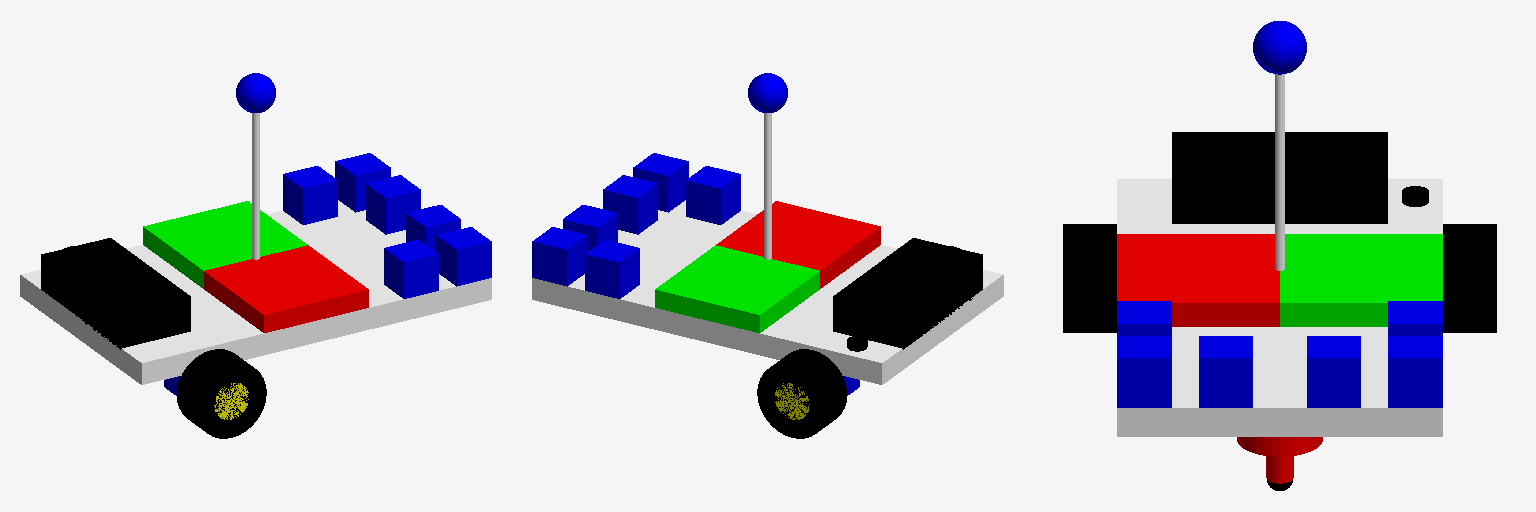
robot.urdf — tuktuk:
<?xml version="1.0" ?>
<!-- =================================================================================== -->
<!-- |    This document was autogenerated by xacro from tuktuk.xacro                   | -->
<!-- |    EDITING THIS FILE BY HAND IS NOT RECOMMENDED                                 | -->
<!-- =================================================================================== -->
<robot name="tuktuk">
  <material name="blue">
    <color rgba="0 0 1 1"/>
  </material>
  <material name="white">
    <color rgba="1 1 1 1"/>
  </material>
  <material name="black">
    <color rgba="0 0 0 1"/>
  </material>
  <material name="black_2">
    <color rgba="0 0 0 0.95"/>
  </material>
  <material name="green">
    <color rgba="0 1 0 1"/>
  </material>
  <material name="red">
    <color rgba="1 0 0 1"/>
  </material>
  <material name="yellow">
    <color rgba="1 1 0 1"/>
  </material>
  <gazebo>
    <plugin filename="gz-sim-diff-drive-system" name="gz::sim::systems::DiffDrive">
      <left_joint>iwheell_joint</left_joint>
      <right_joint>iwheelr_joint</right_joint>
      <wheel_separation>0.7</wheel_separation>
      <wheel_radius>0.04</wheel_radius>
      <topic>/thief/cmd_vel</topic>
    </plugin>
  </gazebo>
  <gazebo reference="thief_camera">
    <sensor name="camera" type="camera">
      <pose>0 0 0 0 0 0</pose>
      <always_on>true</always_on>
      <update_rate>30.0</update_rate>
      <visualize>true</visualize>
      <topic>/thief/camera/image</topic>
      <camera>
        <horizontal_fov>1.089</horizontal_fov>
        <image>
          <width>640</width>
          <height>480</height>
          <format>R8G8B8</format>
        </image>
        <clip>
          <near>0.05</near>
          <far>8.0</far>
        </clip>
      </camera>
    </sensor>
  </gazebo>
  <link name="chassis">
    <inertial>
      <mass value="0.8"/>
      <origin rpy="0 0 0" xyz="0 0 0"/>
      <inertia ixx="0.024239999999999998" ixy="0" ixz="0" iyy="0.06690666666666667" iyz="0" izz="0.09066666666666666"/>
    </inertial>
    <visual>
      <geometry>
        <box size="1.0 0.6 0.06"/>
      </geometry>
      <material name="white"/>
    </visual>
    <collision>
      <geometry>
        <box size="1.0 0.6 0.06"/>
      </geometry>
    </collision>
  </link>
  <link name="stand">
    <inertial>
      <mass value="0.001"/>
      <origin rpy="0 0 0" xyz="0 0 0"/>
      <inertia ixx="0.001" ixy="0" ixz="0" iyy="0.001" iyz="0" izz="0.001"/>
    </inertial>
    <visual>
      <geometry>
        <cylinder length="0.5" radius="0.01"/>
      </geometry>
      <material name="white"/>
    </visual>
    <collision>
      <geometry>
        <cylinder length="0.5" radius="0.01"/>
      </geometry>
    </collision>
  </link>
  <joint name="stand_joint" type="fixed">
    <parent link="chassis"/>
    <child link="stand"/>
    <origin rpy="0 0 0" xyz="0 0 0.28"/>
  </joint>
  <link name="thief_camera">
    <inertial>
      <mass value="0.001"/>
      <origin rpy="0 0 0" xyz="0 0 0"/>
      <inertia ixx="0.001" ixy="0" ixz="0" iyy="0.001" iyz="0" izz="0.001"/>
    </inertial>
    <visual>
      <geometry>
        <sphere radius="0.05"/>
      </geometry>
      <material name="blue"/>
    </visual>
    <collision>
      <geometry>
        <sphere radius="0.06"/>
      </geometry>
    </collision>
  </link>
  <joint name="cam_joint" type="fixed">
    <parent link="stand"/>
    <child link="thief_camera"/>
    <origin rpy="0 0 0" xyz="0 0 0.25"/>
  </joint>
  <link name="ir1">
    <inertial>
      <mass value="0.01"/>
      <origin rpy="0 0 0" xyz="0 0 0"/>
      <inertia ixx="1.666666666666667e-05" ixy="0" ixz="0" iyy="1.666666666666667e-05" iyz="0" izz="1.666666666666667e-05"/>
    </inertial>
    <visual>
      <geometry>
        <box size="0.1 0.1 0.1"/>
      </geometry>
      <material name="blue"/>
    </visual>
    <collision>
      <geometry>
        <box size="0.1 0.1 0.1"/>
      </geometry>
    </collision>
  </link>
  <joint name="ir1_joint" type="fixed">
    <parent link="chassis"/>
    <child link="ir1"/>
    <origin rpy="0 0 0" xyz="0.45 0.25 0.08"/>
  </joint>
  <link name="ir2">
    <inertial>
      <mass value="0.01"/>
      <origin rpy="0 0 0" xyz="0 0 0"/>
      <inertia ixx="1.666666666666667e-05" ixy="0" ixz="0" iyy="1.666666666666667e-05" iyz="0" izz="1.666666666666667e-05"/>
    </inertial>
    <visual>
      <geometry>
        <box size="0.1 0.1 0.1"/>
      </geometry>
      <material name="blue"/>
    </visual>
    <collision>
      <geometry>
        <box size="0.1 0.1 0.1"/>
      </geometry>
    </collision>
  </link>
  <joint name="ir2_joint" type="fixed">
    <parent link="chassis"/>
    <child link="ir2"/>
    <origin rpy="0 0 0" xyz="0.45 0.1 0.08"/>
  </joint>
  <link name="ir3">
    <inertial>
      <mass value="0.01"/>
      <origin rpy="0 0 0" xyz="0 0 0"/>
      <inertia ixx="1.666666666666667e-05" ixy="0" ixz="0" iyy="1.666666666666667e-05" iyz="0" izz="1.666666666666667e-05"/>
    </inertial>
    <visual>
      <geometry>
        <box size="0.1 0.1 0.1"/>
      </geometry>
      <material name="blue"/>
    </visual>
    <collision>
      <geometry>
        <box size="0.1 0.1 0.1"/>
      </geometry>
    </collision>
  </link>
  <joint name="ir3_joint" type="fixed">
    <parent link="chassis"/>
    <child link="ir3"/>
    <origin rpy="0 0 0" xyz="0.45 -0.1 0.08"/>
  </joint>
  <link name="ir4">
    <inertial>
      <mass value="0.01"/>
      <origin rpy="0 0 0" xyz="0 0 0"/>
      <inertia ixx="1.666666666666667e-05" ixy="0" ixz="0" iyy="1.666666666666667e-05" iyz="0" izz="1.666666666666667e-05"/>
    </inertial>
    <visual>
      <geometry>
        <box size="0.1 0.1 0.1"/>
      </geometry>
      <material name="blue"/>
    </visual>
    <collision>
      <geometry>
        <box size="0.1 0.1 0.1"/>
      </geometry>
    </collision>
  </link>
  <joint name="ir4_joint" type="fixed">
    <parent link="chassis"/>
    <child link="ir4"/>
    <origin rpy="0 0 0" xyz="0.45 -0.25 0.08"/>
  </joint>
  <link name="irl">
    <inertial>
      <mass value="0.01"/>
      <origin rpy="0 0 0" xyz="0 0 0"/>
      <inertia ixx="1.666666666666667e-05" ixy="0" ixz="0" iyy="1.666666666666667e-05" iyz="0" izz="1.666666666666667e-05"/>
    </inertial>
    <visual>
      <geometry>
        <box size="0.1 0.1 0.1"/>
      </geometry>
      <material name="blue"/>
    </visual>
    <collision>
      <geometry>
        <box size="0.1 0.1 0.1"/>
      </geometry>
    </collision>
  </link>
  <joint name="irl_joint" type="fixed">
    <parent link="chassis"/>
    <child link="irl"/>
    <origin rpy="0 0 0" xyz="0.3 0.25 0.08"/>
  </joint>
  <link name="irr">
    <inertial>
      <mass value="0.01"/>
      <origin rpy="0 0 0" xyz="0 0 0"/>
      <inertia ixx="1.666666666666667e-05" ixy="0" ixz="0" iyy="1.666666666666667e-05" iyz="0" izz="1.666666666666667e-05"/>
    </inertial>
    <visual>
      <geometry>
        <box size="0.1 0.1 0.1"/>
      </geometry>
      <material name="blue"/>
    </visual>
    <collision>
      <geometry>
        <box size="0.1 0.1 0.1"/>
      </geometry>
    </collision>
  </link>
  <joint name="irr_joint" type="fixed">
    <parent link="chassis"/>
    <child link="irr"/>
    <origin rpy="0 0 0" xyz="0.3 -0.25 0.08"/>
  </joint>
  <link name="arduino">
    <inertial>
      <mass value="0.04"/>
      <origin rpy="0 0 0" xyz="0 0 0"/>
      <inertia ixx="0.00030833333333333337" ixy="0" ixz="0" iyy="0.00030833333333333337" iyz="0" izz="0.0006"/>
    </inertial>
    <visual>
      <geometry>
        <box size="0.3 0.3 0.05"/>
      </geometry>
      <material name="green"/>
    </visual>
    <collision>
      <geometry>
        <box size="0.3 0.3 0.05"/>
      </geometry>
    </collision>
  </link>
  <joint name="arduino_joint" type="fixed">
    <parent link="chassis"/>
    <child link="arduino"/>
    <origin rpy="0 0 0" xyz="0 0.15 0.055"/>
  </joint>
  <link name="driver">
    <inertial>
      <mass value="0.04"/>
      <origin rpy="0 0 0" xyz="0 0 0"/>
      <inertia ixx="0.00030833333333333337" ixy="0" ixz="0" iyy="0.00030833333333333337" iyz="0" izz="0.0006"/>
    </inertial>
    <visual>
      <geometry>
        <box size="0.3 0.3 0.05"/>
      </geometry>
      <material name="red"/>
    </visual>
    <collision>
      <geometry>
        <box size="0.3 0.3 0.05"/>
      </geometry>
    </collision>
  </link>
  <joint name="driver_joint" type="fixed">
    <parent link="chassis"/>
    <child link="driver"/>
    <origin rpy="0 0 0" xyz="0 -0.15 0.055"/>
  </joint>
  <link name="battery">
    <inertial>
      <mass value="0.35"/>
      <origin rpy="0 0 0" xyz="0 0 0"/>
      <inertia ixx="0.0049583333333333346" ixy="0" ixz="0" iyy="0.0014583333333333334" iyz="0" izz="0.005833333333333334"/>
    </inertial>
    <visual>
      <geometry>
        <box size="0.2 0.4 0.1"/>
      </geometry>
      <material name="black"/>
    </visual>
    <collision>
      <geometry>
        <box size="0.2 0.4 0.1"/>
      </geometry>
    </collision>
  </link>
  <joint name="battery_joint" type="fixed">
    <parent link="chassis"/>
    <child link="battery"/>
    <origin rpy="0 0 0" xyz="-0.4 0 0.075"/>
  </joint>
  <link name="switch">
    <inertial>
      <mass value="0.005"/>
      <origin rpy="0 0 0" xyz="0 0 0"/>
      <inertia ixx="9.47916666666667e-07" ixy="0" ixz="0" iyy="9.47916666666667e-07" iyz="0" izz="1.5625e-06"/>
    </inertial>
    <visual>
      <geometry>
        <cylinder length="0.02" radius="0.025"/>
      </geometry>
      <material name="black"/>
    </visual>
    <collision>
      <geometry>
        <cylinder length="0.02" radius="0.025"/>
      </geometry>
    </collision>
  </link>
  <joint name="switch_joint" type="fixed">
    <parent link="chassis"/>
    <child link="switch"/>
    <origin rpy="0 0 0" xyz="-0.4 0.25 0.04"/>
  </joint>
  <link name="caster_base">
    <inertial>
      <mass value="0.03"/>
      <origin rpy="0 0 0" xyz="0 0 0"/>
      <inertia ixx="5.424999999999999e-05" ixy="0" ixz="0" iyy="5.424999999999999e-05" iyz="0" izz="9.599999999999999e-05"/>
    </inertial>
    <visual>
      <geometry>
        <cylinder length="0.05" radius="0.08"/>
      </geometry>
      <material name="red"/>
    </visual>
    <collision>
      <geometry>
        <cylinder length="0.05" radius="0.08"/>
      </geometry>
    </collision>
  </link>
  <joint name="caster_joint" type="fixed">
    <parent link="chassis"/>
    <child link="caster_base"/>
    <origin rpy="0 0 0" xyz="0.4 0 -0.055"/>
  </joint>
  <link name="caster_stud">
    <inertial>
      <mass value="0.01"/>
      <origin rpy="0 0 0" xyz="0 0 0"/>
      <inertia ixx="6.895833333333335e-06" ixy="0" ixz="0" iyy="6.895833333333335e-06" iyz="0" izz="3.125e-06"/>
    </inertial>
    <visual>
      <geometry>
        <cylinder length="0.08" radius="0.025"/>
      </geometry>
      <material name="red"/>
    </visual>
    <collision>
      <geometry>
        <cylinder length="0.08" radius="0.025"/>
      </geometry>
    </collision>
  </link>
  <joint name="stud_joint" type="fixed">
    <parent link="caster_base"/>
    <child link="caster_stud"/>
    <origin rpy="0 0 0" xyz="0 0 -0.065"/>
  </joint>
  <link name="dummy_link1">
    <inertial>
      <mass value="0.001"/>
      <origin rpy="0 0 0" xyz="0 0 0"/>
      <inertia ixx="0.001" ixy="0" ixz="0" iyy="0.001" iyz="0" izz="0.001"/>
    </inertial>
    <collision>
      <geometry>
        <sphere radius="0"/>
      </geometry>
    </collision>
  </link>
  <link name="dummy_link2">
    <inertial>
      <mass value="0.001"/>
      <origin rpy="0 0 0" xyz="0 0 0"/>
      <inertia ixx="0.001" ixy="0" ixz="0" iyy="0.001" iyz="0" izz="0.001"/>
    </inertial>
    <collision>
      <geometry>
        <sphere radius="0"/>
      </geometry>
    </collision>
  </link>
  <link name="caster_ball">
    <inertial>
      <mass value="0.02"/>
      <origin rpy="0 0 0" xyz="0 0 0"/>
      <inertia ixx="5e-06" ixy="0" ixz="0" iyy="5e-06" iyz="0" izz="5e-06"/>
    </inertial>
    <visual>
      <geometry>
        <sphere radius="0.025"/>
      </geometry>
      <material name="black"/>
    </visual>
    <collision>
      <geometry>
        <sphere radius="0.025"/>
      </geometry>
    </collision>
  </link>
  <joint name="ball_n_socketx" type="continuous">
    <parent link="caster_stud"/>
    <child link="dummy_link1"/>
    <origin rpy="0 0 0" xyz="0 0 -0.04"/>
    <axis xyz="1 0 0"/>
  </joint>
  <joint name="ball_n_sockety" type="continuous">
    <parent link="dummy_link1"/>
    <child link="dummy_link2"/>
    <origin rpy="0 0 0" xyz="0 0 0"/>
    <axis xyz="0 1 0"/>
  </joint>
  <joint name="ball_n_socketz" type="continuous">
    <parent link="dummy_link2"/>
    <child link="caster_ball"/>
    <origin rpy="0 0 0" xyz="0 0 0"/>
    <axis xyz="0 0 1"/>
  </joint>
  <link name="motorl">
    <inertial>
      <mass value="0.12"/>
      <origin rpy="0 0 0" xyz="0 0 0"/>
      <inertia ixx="0.000325" ixy="0" ixz="0" iyy="0.0002" iyz="0" izz="0.000325"/>
    </inertial>
    <visual>
      <geometry>
        <box size="0.1 0.15 0.1"/>
      </geometry>
      <material name="blue"/>
    </visual>
    <collision>
      <geometry>
        <box size="0.1 0.15 0.1"/>
      </geometry>
    </collision>
  </link>
  <joint name="motorl_joint" type="fixed">
    <parent link="chassis"/>
    <child link="motorl"/>
    <origin rpy="0 0 0" xyz="-0.3 0.225 -0.08"/>
  </joint>
  <link name="iwheell">
    <inertial>
      <mass value="0.03"/>
      <origin rpy="0 0 0" xyz="0 0 0"/>
      <inertia ixx="4.3750000000000006e-05" ixy="0" ixz="0" iyy="4.3750000000000006e-05" iyz="0" izz="3.7500000000000003e-05"/>
    </inertial>
    <visual>
      <geometry>
        <cylinder length="0.1" radius="0.05"/>
      </geometry>
      <material name="yellow"/>
    </visual>
    <collision>
      <geometry>
        <cylinder length="0.1" radius="0.05"/>
      </geometry>
    </collision>
  </link>
  <joint name="iwheell_joint" type="continuous">
    <parent link="motorl"/>
    <child link="iwheell"/>
    <origin rpy="1.570796326795 0 0" xyz="0 0.125 0"/>
    <axis xyz="0 0 -1"/>
  </joint>
  <link name="wheell">
    <inertial>
      <mass value="0.08"/>
      <origin rpy="0 0 0" xyz="0 0 0"/>
      <inertia ixx="0.00026666666666666673" ixy="0" ixz="0" iyy="0.00026666666666666673" iyz="0" izz="0.0004"/>
    </inertial>
    <visual>
      <geometry>
        <cylinder length="0.1" radius="0.1"/>
      </geometry>
      <material name="black_2"/>
    </visual>
    <collision>
      <geometry>
        <cylinder length="0.1" radius="0.1"/>
      </geometry>
    </collision>
  </link>
  <joint name="wheell_joint" type="fixed">
    <parent link="iwheell"/>
    <child link="wheell"/>
    <origin rpy="0 0 0" xyz="0 0 0"/>
  </joint>
  <link name="motorr">
    <inertial>
      <mass value="0.12"/>
      <origin rpy="0 0 0" xyz="0 0 0"/>
      <inertia ixx="0.000325" ixy="0" ixz="0" iyy="0.0002" iyz="0" izz="0.000325"/>
    </inertial>
    <visual>
      <geometry>
        <box size="0.1 0.15 0.1"/>
      </geometry>
      <material name="blue"/>
    </visual>
    <collision>
      <geometry>
        <box size="0.1 0.15 0.1"/>
      </geometry>
    </collision>
  </link>
  <joint name="motorr_joint" type="fixed">
    <parent link="chassis"/>
    <child link="motorr"/>
    <origin rpy="0 0 0" xyz="-0.3 -0.225 -0.08"/>
  </joint>
  <link name="iwheelr">
    <inertial>
      <mass value="0.03"/>
      <origin rpy="0 0 0" xyz="0 0 0"/>
      <inertia ixx="4.3750000000000006e-05" ixy="0" ixz="0" iyy="4.3750000000000006e-05" iyz="0" izz="3.7500000000000003e-05"/>
    </inertial>
    <visual>
      <geometry>
        <cylinder length="0.1" radius="0.05"/>
      </geometry>
      <material name="yellow"/>
    </visual>
    <collision>
      <geometry>
        <cylinder length="0.1" radius="0.05"/>
      </geometry>
    </collision>
  </link>
  <joint name="iwheelr_joint" type="continuous">
    <parent link="motorr"/>
    <child link="iwheelr"/>
    <origin rpy="1.570796326795 0 0" xyz="0 -0.125 0"/>
    <axis xyz="0 0 -1"/>
  </joint>
  <link name="wheelr">
    <inertial>
      <mass value="0.08"/>
      <origin rpy="0 0 0" xyz="0 0 0"/>
      <inertia ixx="0.00026666666666666673" ixy="0" ixz="0" iyy="0.00026666666666666673" iyz="0" izz="0.0004"/>
    </inertial>
    <visual>
      <geometry>
        <cylinder length="0.1" radius="0.1"/>
      </geometry>
      <material name="black_2"/>
    </visual>
    <collision>
      <geometry>
        <cylinder length="0.1" radius="0.1"/>
      </geometry>
    </collision>
  </link>
  <joint name="wheelr_joint" type="fixed">
    <parent link="iwheelr"/>
    <child link="wheelr"/>
    <origin rpy="0 0 0" xyz="0 0 0"/>
  </joint>
</robot>

--- Render facts (derived) ---
Views: 3 orthographic renders of the robot side by side, from view 1: azimuth 30°, elevation 25°; view 2: azimuth 150°, elevation 25°; view 3: azimuth 270°, elevation 25°.
Model tuktuk with 24 links and 23 joints (5 continuous, 18 fixed), rooted at chassis, posed every joint at zero.
Visible links, largest first — view 1: chassis, battery, driver, arduino, wheelr, irr, irl, ir4, ir2, ir1, ir3, thief_camera (+2 smaller); view 2: chassis, battery, arduino, driver, wheell, irl, irr, ir1, ir3, ir4, ir2, thief_camera (+2 smaller); view 3: chassis, battery, arduino, driver, wheell, wheelr, ir1, ir4, ir2, ir3, thief_camera, stand (+4 smaller).
Boxes of the visible links, x1,y1,x2,y2 form: chassis: [20, 200, 491, 384]; battery: [41, 238, 190, 349]; driver: [204, 245, 368, 332]; arduino: [143, 201, 307, 288]; wheelr: [177, 349, 266, 438]; irr: [384, 239, 438, 298]; irl: [283, 166, 337, 224]; ir4: [436, 227, 491, 286]; ir2: [366, 175, 420, 234]; ir1: [335, 153, 390, 212]; ir3: [406, 205, 460, 251]; thief_camera: [236, 73, 275, 112]; chassis: [532, 200, 1003, 384]; battery: [833, 238, 982, 349]; arduino: [655, 245, 819, 332]; driver: [716, 201, 880, 288]; wheell: [757, 349, 846, 438]; irl: [585, 239, 639, 298]; irr: [686, 166, 740, 224]; ir1: [532, 227, 587, 286]; ir3: [603, 175, 657, 234]; ir4: [633, 153, 688, 212]; ir2: [563, 205, 617, 251]; thief_camera: [748, 73, 787, 112]; chassis: [1117, 179, 1442, 436]; battery: [1172, 132, 1387, 223]; arduino: [1280, 234, 1442, 326]; driver: [1117, 234, 1279, 326]; wheell: [1443, 224, 1496, 332]; wheelr: [1063, 224, 1116, 332]; ir1: [1388, 336, 1442, 407]; ir4: [1117, 336, 1171, 407]; ir2: [1307, 336, 1360, 407]; ir3: [1199, 336, 1252, 407]; thief_camera: [1253, 21, 1306, 74]; stand: [1275, 74, 1284, 270].
Size in the robot's own frame: 1 by 0.8 by 0.765 metres.
Geometry: primitives only (box / cylinder / sphere), no mesh files.
